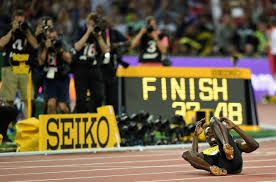10+: (1, 1, 275, 178)
down: (177, 111, 264, 178)
